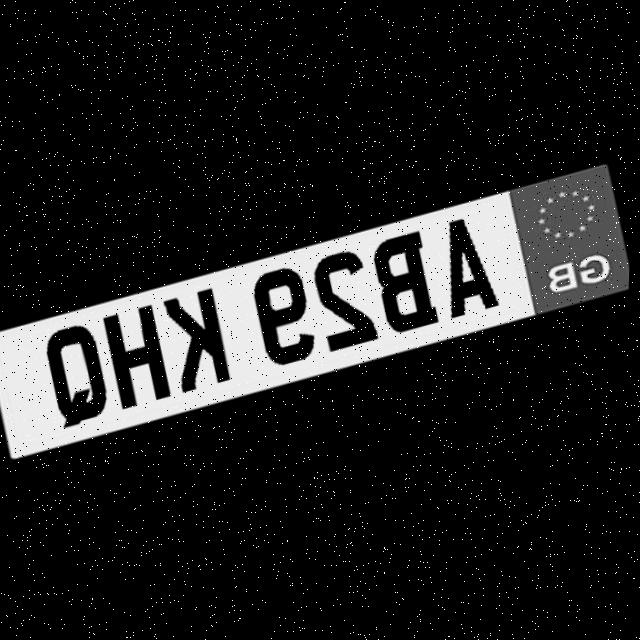license-plates: (0, 163, 629, 457)
